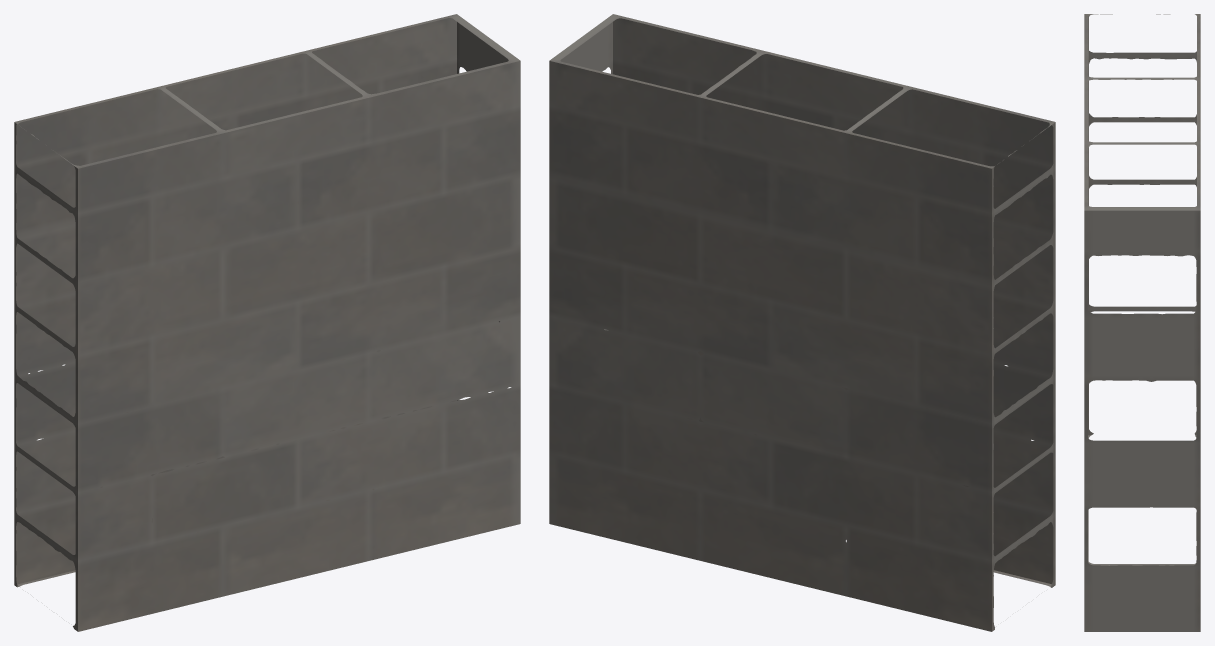
File: stone-square-infill.fbx
3 views of the same model, side by side, from view 1: azimuth 30°, elevation 25°; view 2: azimuth 150°, elevation 25°; view 3: azimuth 270°, elevation 25° (orthographic). The views are drawn at different scales.
Parts seen in each view (by area): view 1: stone-square-infill; view 2: stone-square-infill; view 3: stone-square-infill.
Part boxes in pixels (bbox=[...]): stone-square-infill: bbox=[14, 14, 520, 631]; stone-square-infill: bbox=[549, 14, 1055, 631]; stone-square-infill: bbox=[1084, 14, 1200, 631].
Size of the model in its own units: 200 by 200 by 50.
